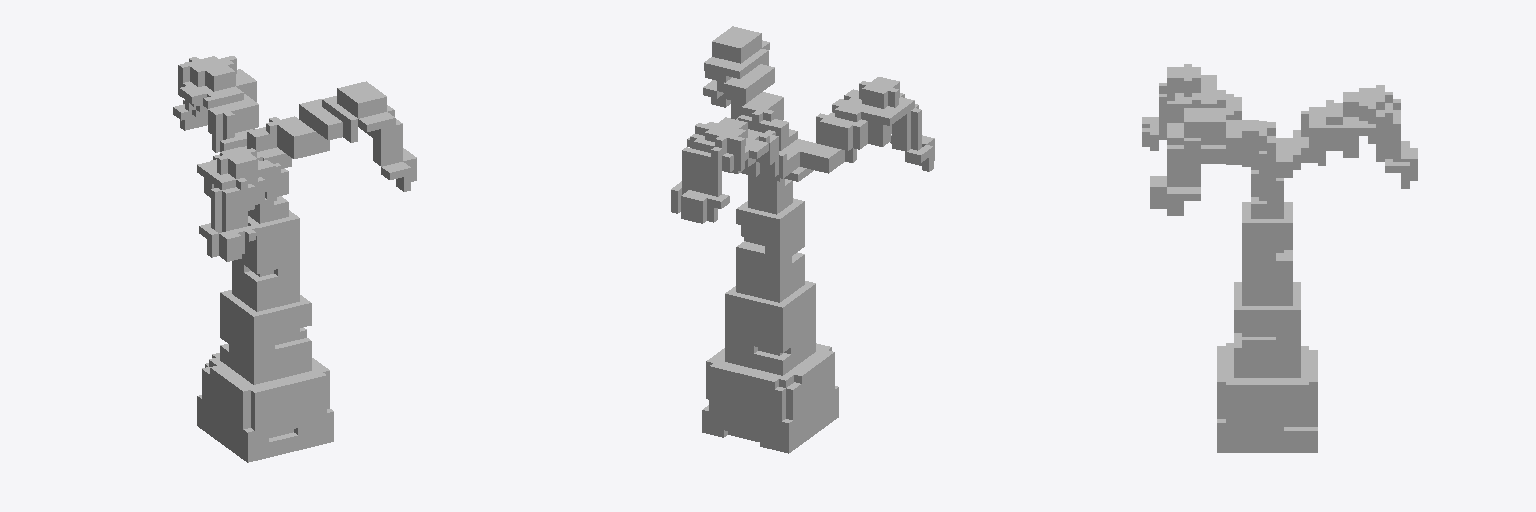
File: tree.obj
3 renders of one model, left to right at view 1: azimuth 30°, elevation 25°; view 2: azimuth 150°, elevation 25°; view 3: azimuth 270°, elevation 25°, orthographic.
Visible parts, largest first — view 1: object 1; view 2: object 1; view 3: object 1.
Part boxes in pixels (x1,y1,x2,y2): object 1: (173,56,416,462); object 1: (671,26,934,453); object 1: (1142,64,1417,452).
Size of the model in its own units: 2.9 by 4.6 by 3.3.